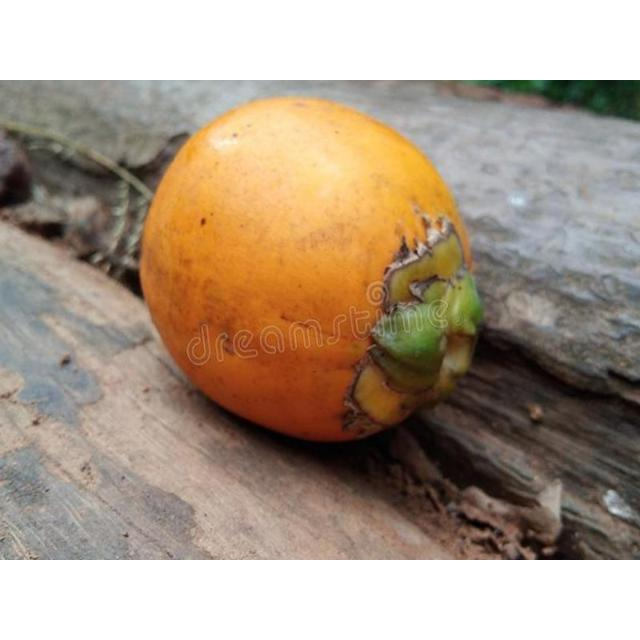good: (138, 97, 484, 446)
